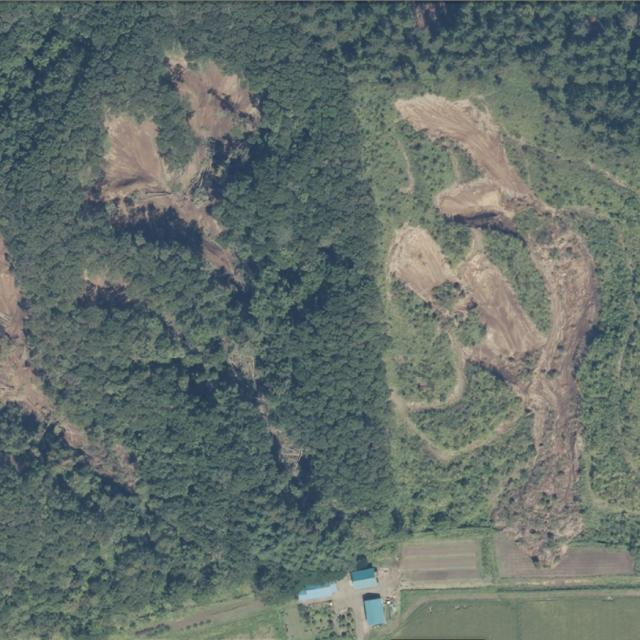landslide: (390, 94, 600, 567), (100, 54, 261, 281), (0, 234, 136, 490)
